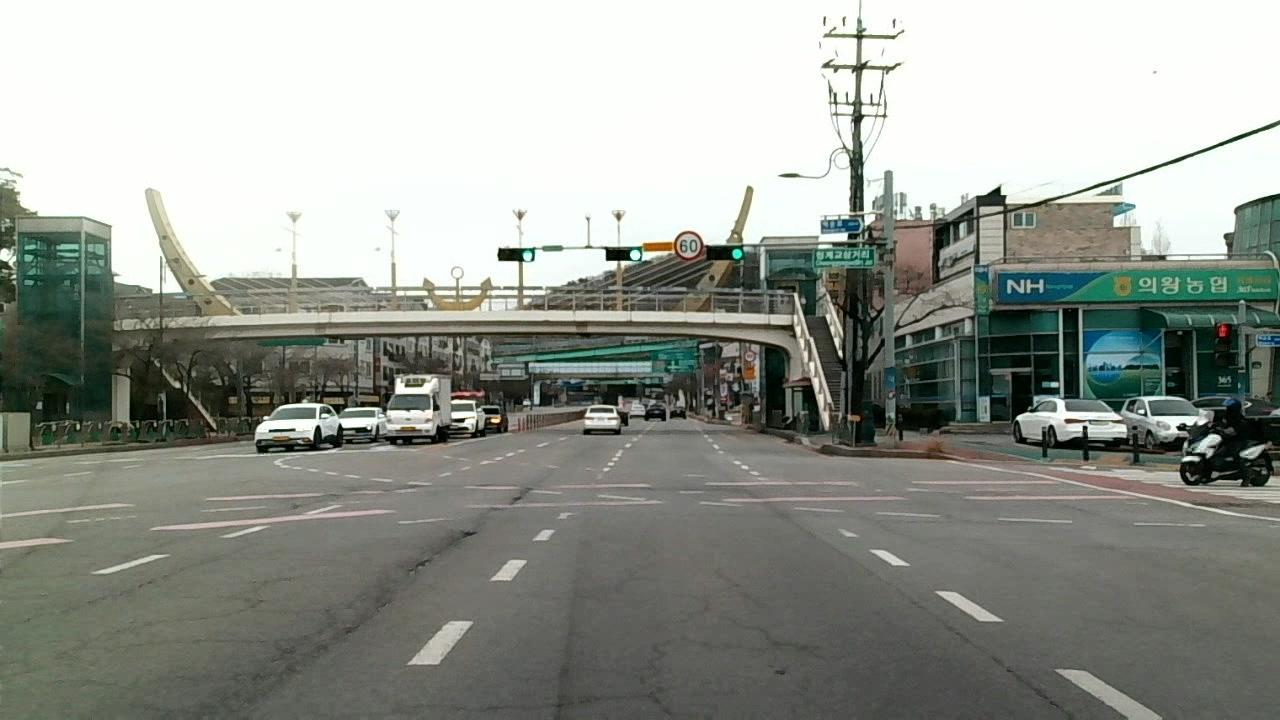vcrack: (946, 623, 1075, 720), (294, 595, 396, 674), (812, 534, 922, 605), (90, 557, 203, 605), (410, 527, 475, 577), (636, 629, 671, 720), (506, 482, 529, 503)
